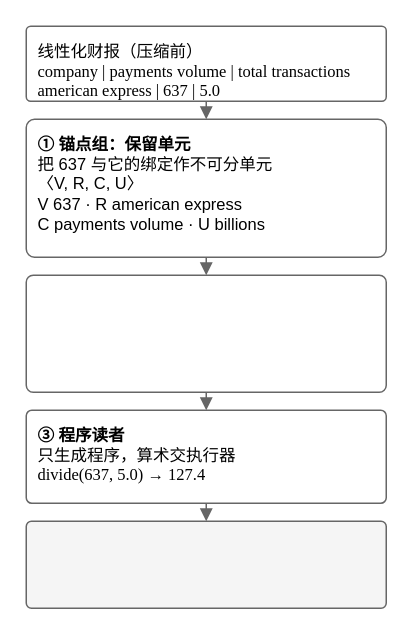
The diagram is 413 pixels wide and 635 high, and some of its shapes have lost their labels. Each missing label, with the centre of its shape:
② 定位器：钉住所需一对 问「每笔交易的平均支付额」 → 选出 637 与 5.0 → 两组合并整组钉入预算: the point at 205,333
可审计的输出 保留的锚点组 · 选中的一对 · 程序与结果 任一环可回查；不能复算则可弃答: the point at 205,564
